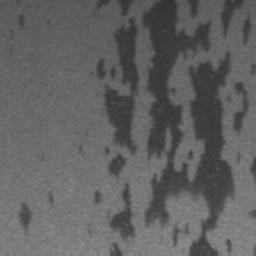Red iron sheet: (96, 0, 251, 256), (18, 202, 32, 233), (173, 227, 180, 246), (250, 159, 256, 178), (47, 191, 54, 205), (93, 188, 100, 201), (18, 15, 24, 29), (252, 242, 256, 256)
